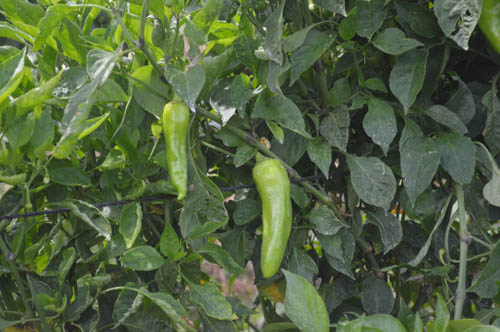ChiliPepper: (252, 159, 296, 277), (162, 104, 194, 201)
